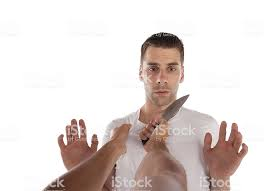knife: (138, 90, 193, 144)
